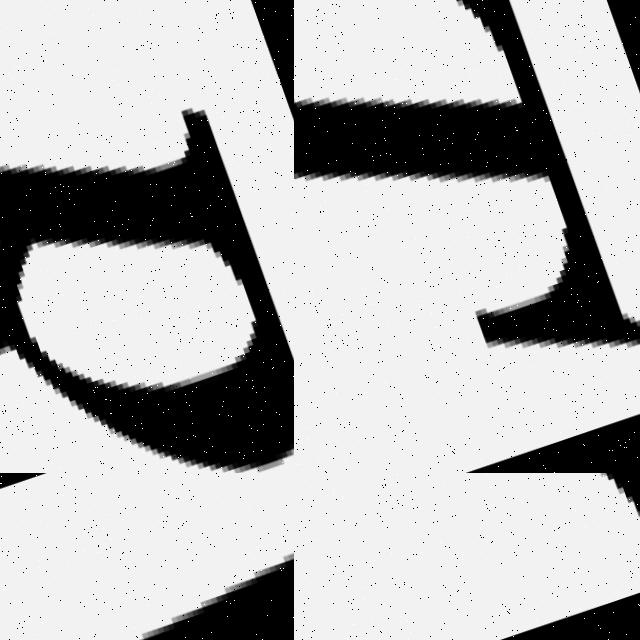K: (294, 473, 640, 640)
R: (0, 0, 294, 473)
T: (294, 0, 640, 473)
Y: (0, 473, 294, 640)
